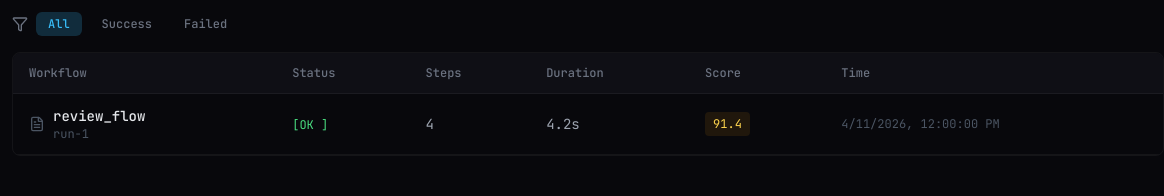
Test case: RunList › shows the empty state after filtering away all runs
The image size is (1164, 196).
Click the button "Failed": {"x": 206, "y": 24} [172,12,239,36]
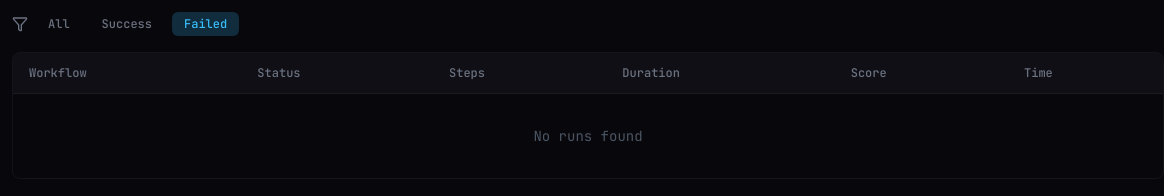
Now the text "No runs found" is shown, box [13,94,1163,178]
